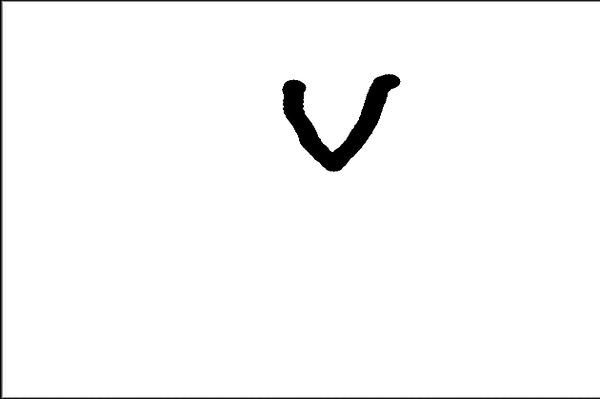V: (270, 62, 418, 175)
